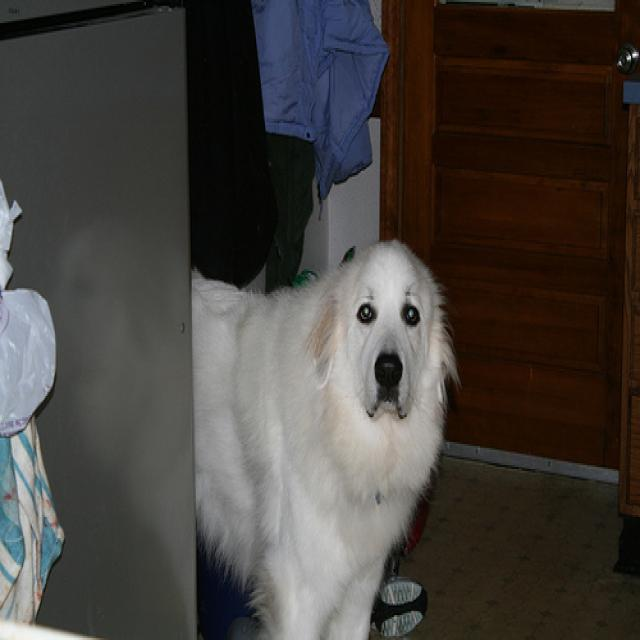dog-great_pyrenees: (182, 227, 466, 636)
